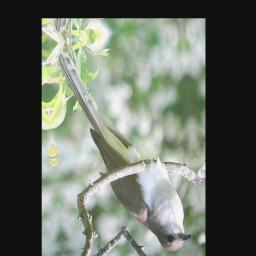Cuckoo: (55, 29, 193, 256)
